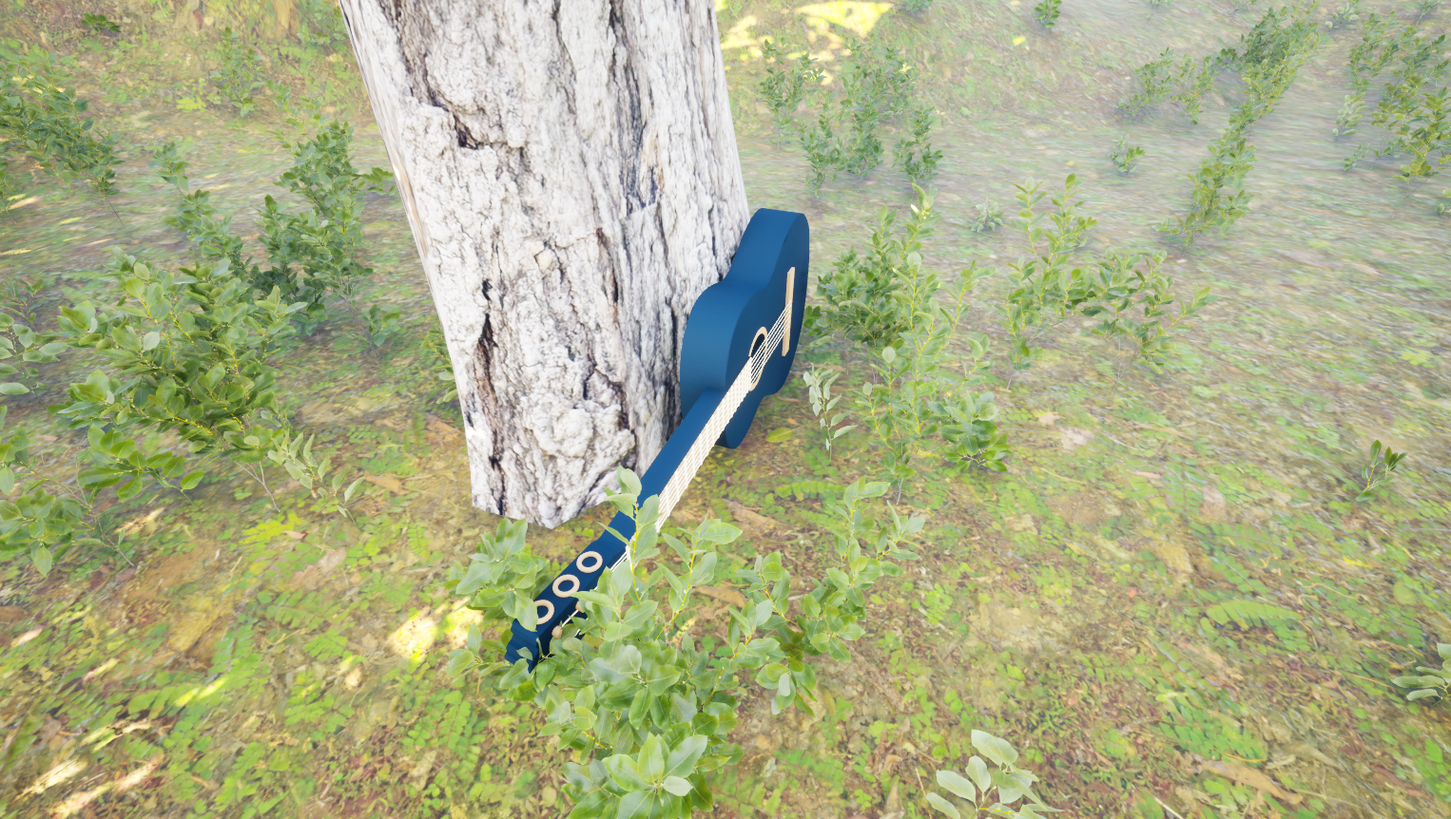Guitar: (431, 189, 819, 766)
